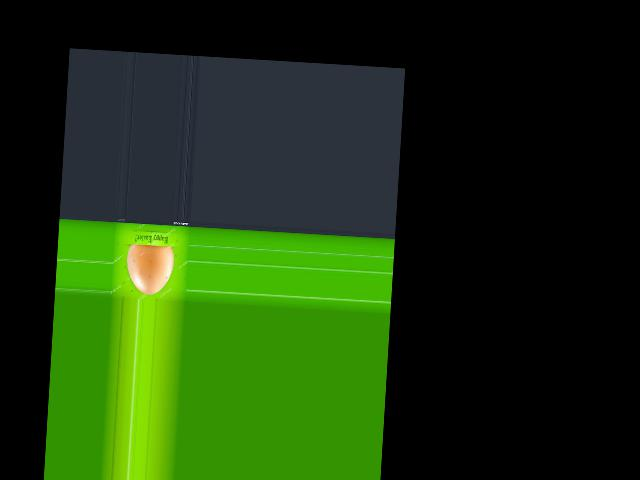egg: (125, 244, 174, 296)
